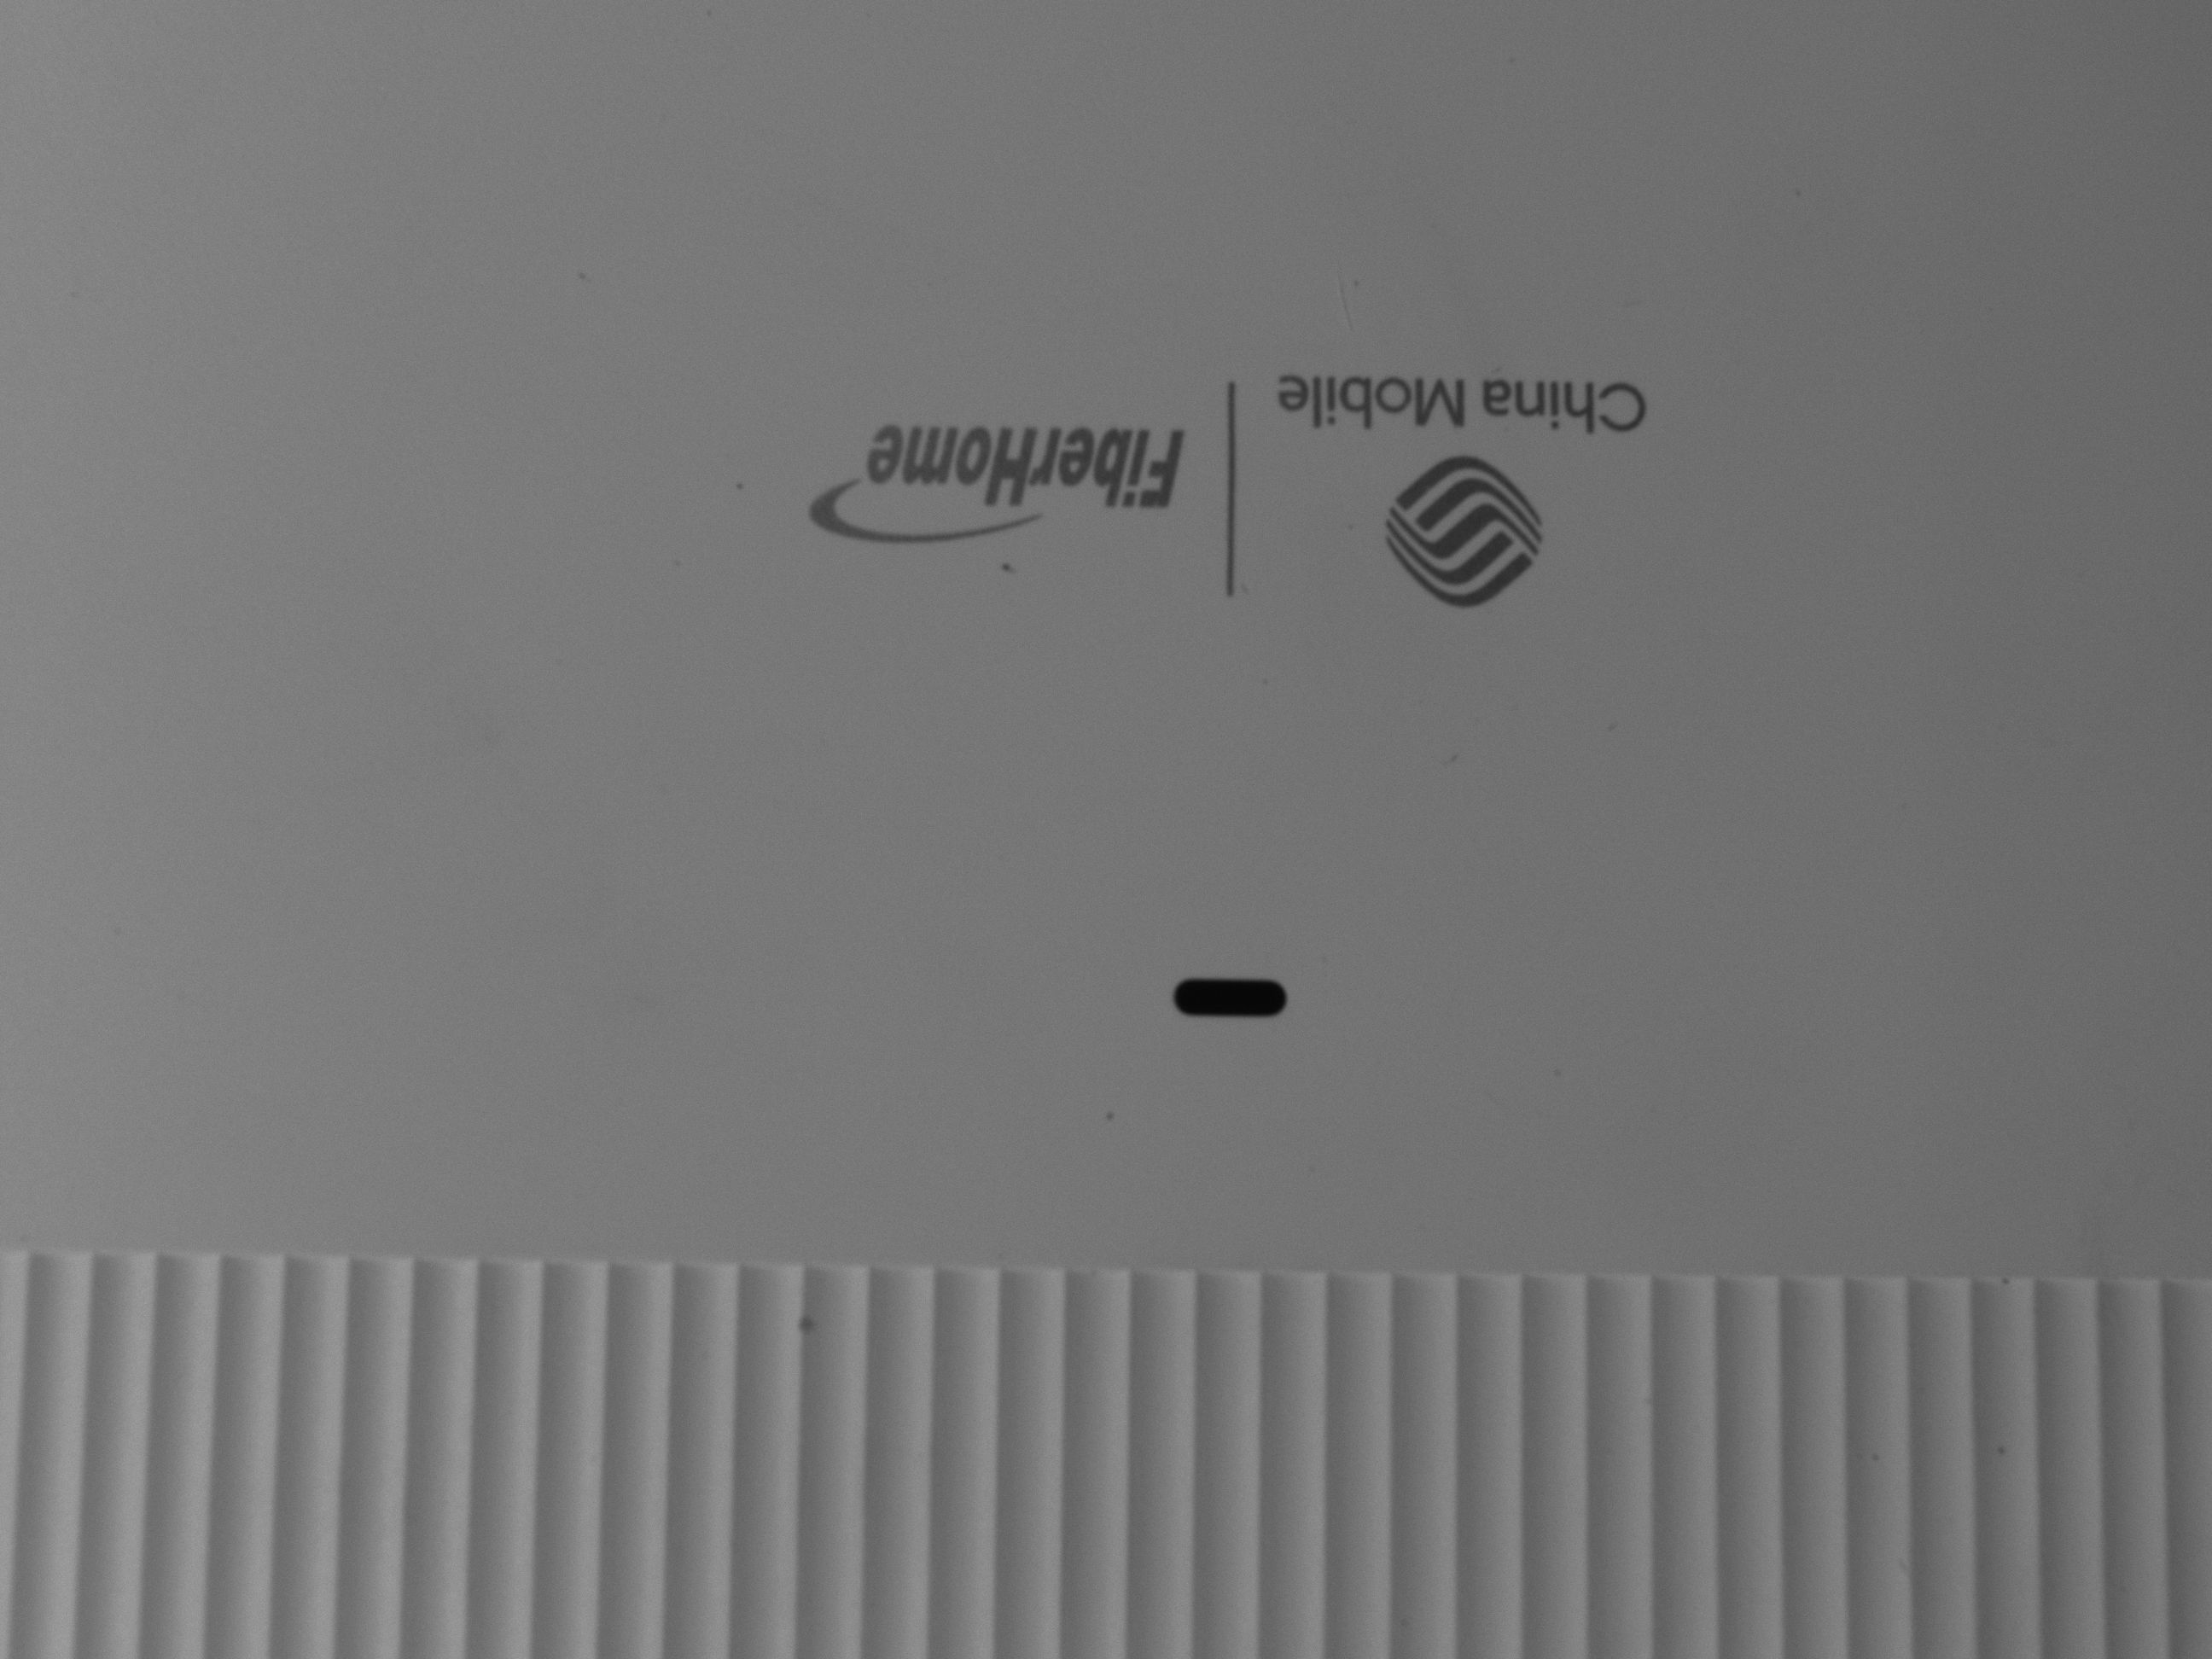BX_HG6371FMobileFiberhome: (770, 301, 1693, 615)
